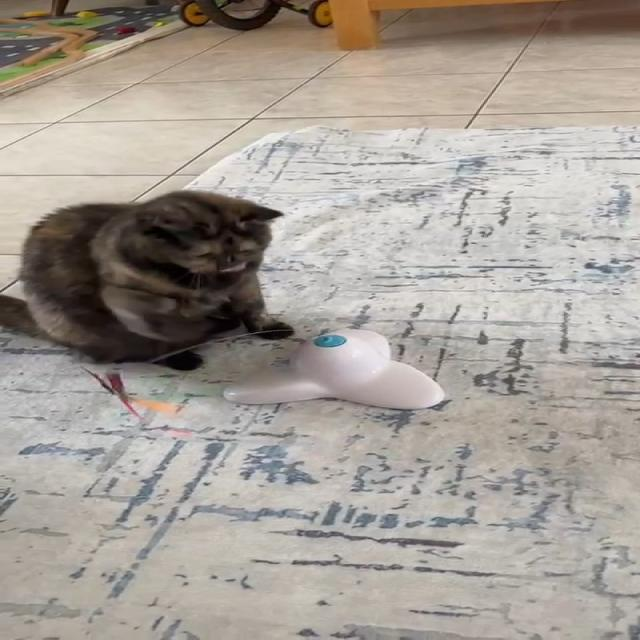authorized: (0, 189, 295, 371)
